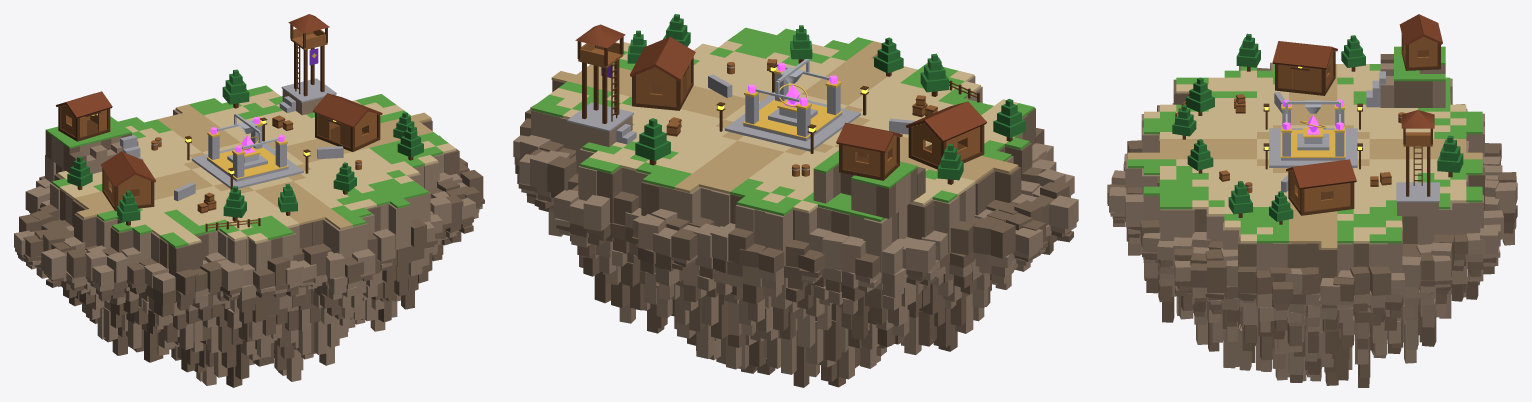
File: bedwars-central-island-v2.glb
3 views of the same model, side by side, from view 1: azimuth 30°, elevation 25°; view 2: azimuth 150°, elevation 25°; view 3: azimuth 270°, elevation 25° (orthographic). The views are drawn at different scales.
Parts seen in each view (by area): view 1: island_underside_rock_dark, topsoil_sand, island_underside_rock, cliffs_ledges_rock, cliffs_ledges_rock_dark, topsoil_grass, cliffs_rock, topsoil_dirt_path, cliffs_rock_dark, trees_leaves, dropper_plaza_stone_tile, hut_east_roof (+19 smaller); view 2: island_underside_rock, island_underside_rock_dark, topsoil_sand, cliffs_ledges_rock, cliffs_ledges_rock_dark, cliffs_rock, topsoil_grass, topsoil_dirt_path, cliffs_rock_dark, trees_leaves, dropper_plaza_stone_tile, plateau_rock (+21 smaller); view 3: topsoil_sand, island_underside_rock, island_underside_rock_dark, topsoil_grass, cliffs_ledges_rock, cliffs_rock, cliffs_ledges_rock_dark, topsoil_dirt_path, trees_leaves, cliffs_rock_dark, dropper_plaza_stone_tile, hut_east_roof (+21 smaller).
Part boxes in pixels (left/top/right/bottom): island_underside_rock_dark: left=17, top=198, right=484, bottom=387; topsoil_sand: left=57, top=91, right=456, bottom=244; island_underside_rock: left=15, top=206, right=482, bottom=385; cliffs_ledges_rock: left=14, top=135, right=475, bottom=293; cliffs_ledges_rock_dark: left=19, top=158, right=483, bottom=295; topsoil_grass: left=52, top=85, right=448, bottom=248; cliffs_rock: left=45, top=109, right=444, bottom=271; topsoil_dirt_path: left=74, top=104, right=433, bottom=229; cliffs_rock_dark: left=54, top=120, right=459, bottom=276; trees_leaves: left=67, top=69, right=423, bottom=222; dropper_plaza_stone_tile: left=191, top=141, right=303, bottom=188; hut_east_roof: left=312, top=93, right=382, bottom=127; island_underside_rock: left=514, top=157, right=1076, bottom=379; island_underside_rock_dark: left=515, top=165, right=1073, bottom=387; topsoil_sand: left=549, top=41, right=1018, bottom=213; cliffs_ledges_rock: left=513, top=104, right=1078, bottom=274; cliffs_ledges_rock_dark: left=520, top=109, right=1069, bottom=278; cliffs_rock: left=531, top=36, right=1022, bottom=272; topsoil_grass: left=531, top=27, right=1034, bottom=221; topsoil_dirt_path: left=551, top=41, right=1018, bottom=193; cliffs_rock_dark: left=552, top=80, right=1035, bottom=242; trees_leaves: left=627, top=14, right=1025, bottom=180; dropper_plaza_stone_tile: left=724, top=92, right=860, bottom=151; plateau_rock: left=813, top=161, right=910, bottom=215; topsoil_sand: left=1144, top=64, right=1466, bottom=243; island_underside_rock: left=1110, top=212, right=1516, bottom=381; island_underside_rock_dark: left=1112, top=205, right=1517, bottom=387; topsoil_grass: left=1128, top=64, right=1482, bottom=243; cliffs_ledges_rock: left=1109, top=62, right=1517, bottom=302; cliffs_rock: left=1125, top=65, right=1484, bottom=276; cliffs_ledges_rock_dark: left=1107, top=68, right=1516, bottom=301; topsoil_dirt_path: left=1128, top=64, right=1482, bottom=249; trees_leaves: left=1172, top=33, right=1463, bottom=221; cliffs_rock_dark: left=1142, top=66, right=1484, bottom=283; dropper_plaza_stone_tile: left=1269, top=128, right=1357, bottom=167; hut_east_roof: left=1286, top=159, right=1356, bottom=189.
Bounding box in the file's own units: 130 × 86.83 × 102.
